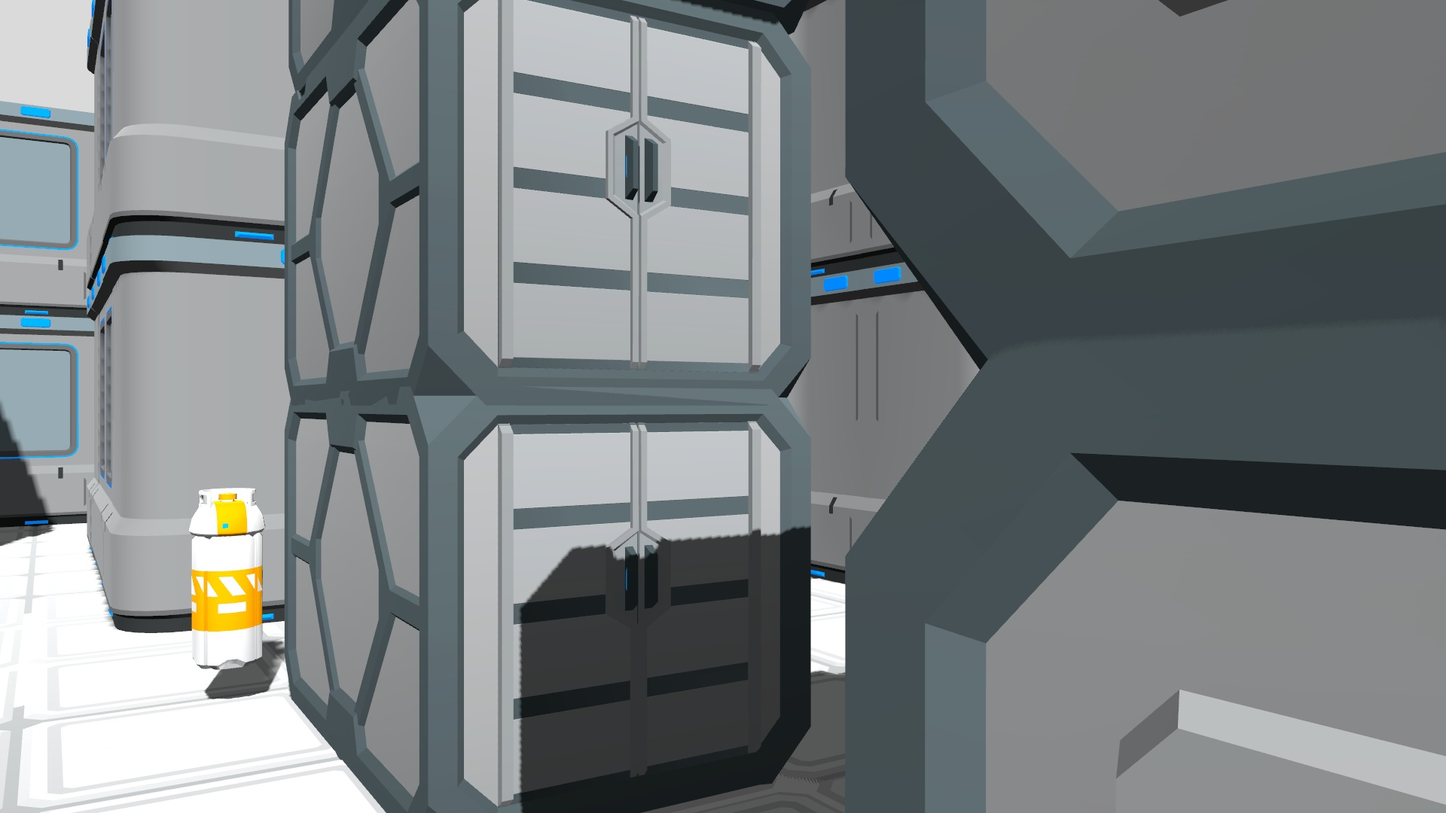yellow_barrel: (182, 479, 268, 675)
